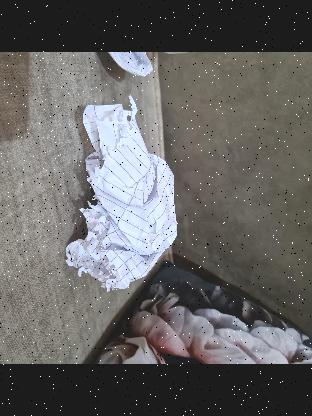Others: (74, 100, 180, 290)
